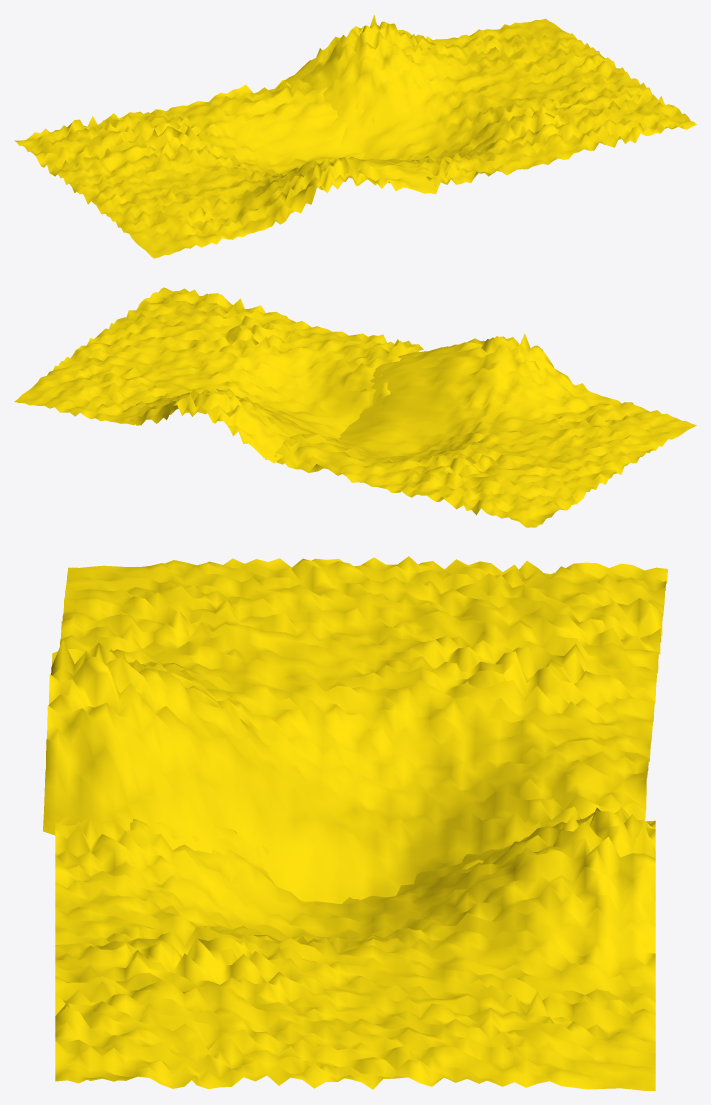
The model's file is cenarioplaceholder.fbx.
3 views of the same model, one above another, from view 1: azimuth 30°, elevation 25°; view 2: azimuth 150°, elevation 25°; view 3: azimuth 270°, elevation 25° (orthographic). The views are drawn at different scales.
Parts seen in each view (by area): view 1: campos de mel; view 2: campos de mel; view 3: campos de mel.
Part boxes in pixels (left/top/right/bottom): campos de mel: left=14, top=15, right=696, bottom=258; campos de mel: left=14, top=287, right=696, bottom=527; campos de mel: left=43, top=556, right=667, bottom=1090.
Size of the model in its own units: 13947 by 2011 by 7043.
